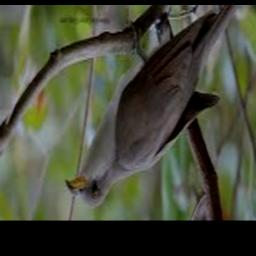Cuckoo: (66, 5, 237, 209)
